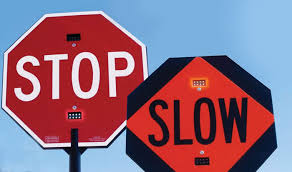Stop: (10, 8, 144, 149)
